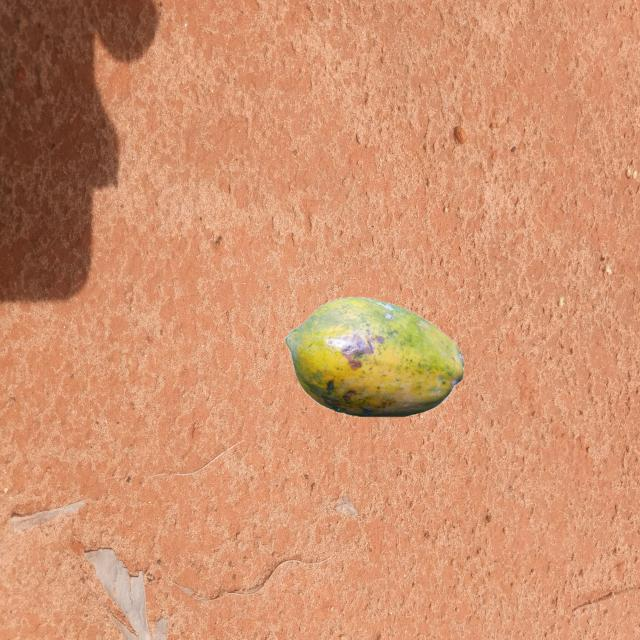Pepaya rippen: (278, 292, 471, 433)
